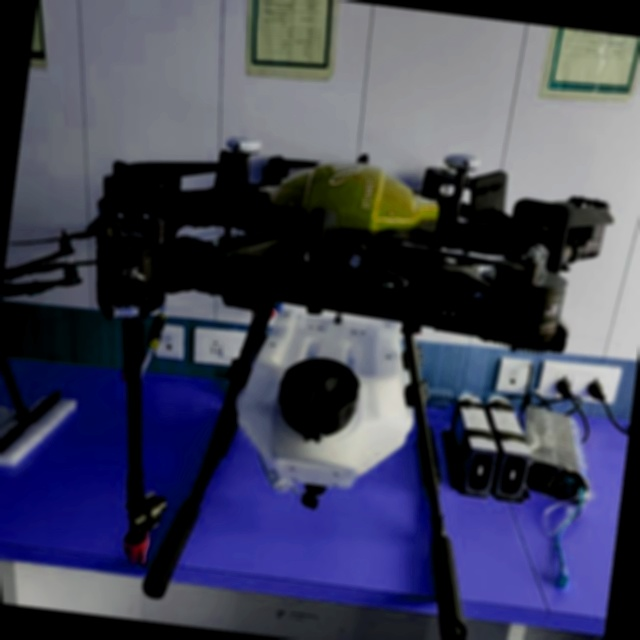agriculturedrone: (24, 105, 618, 640)
